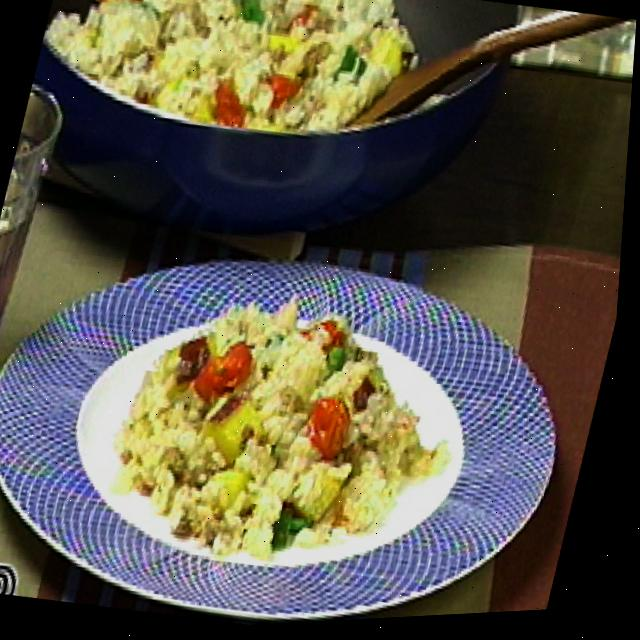米饭主食: (0, 205, 611, 640)
